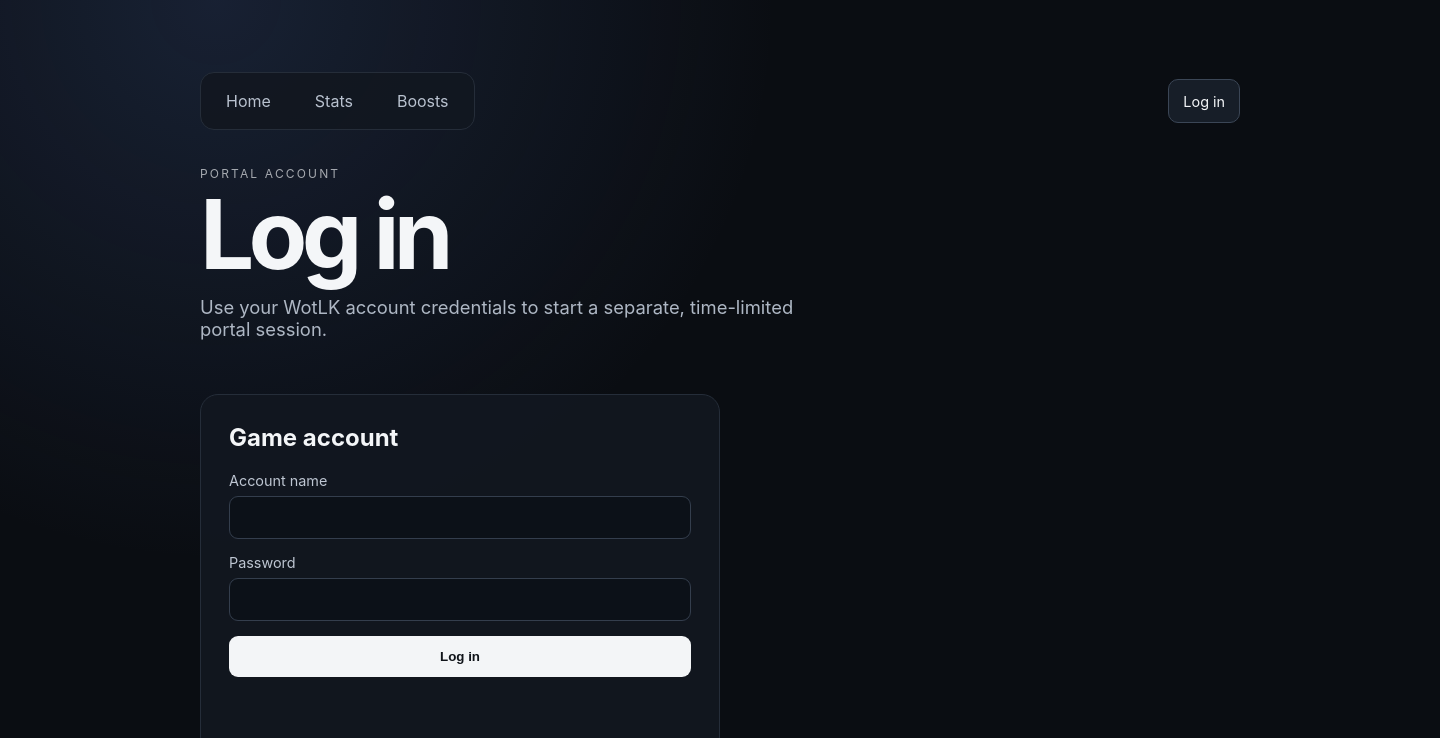
Test case: portal authentication experience › returns to the protected route after login and shows the canonical account
Type "test_user" into the field labelled "Account name" at (460, 518), box 229,496 -> 691,539
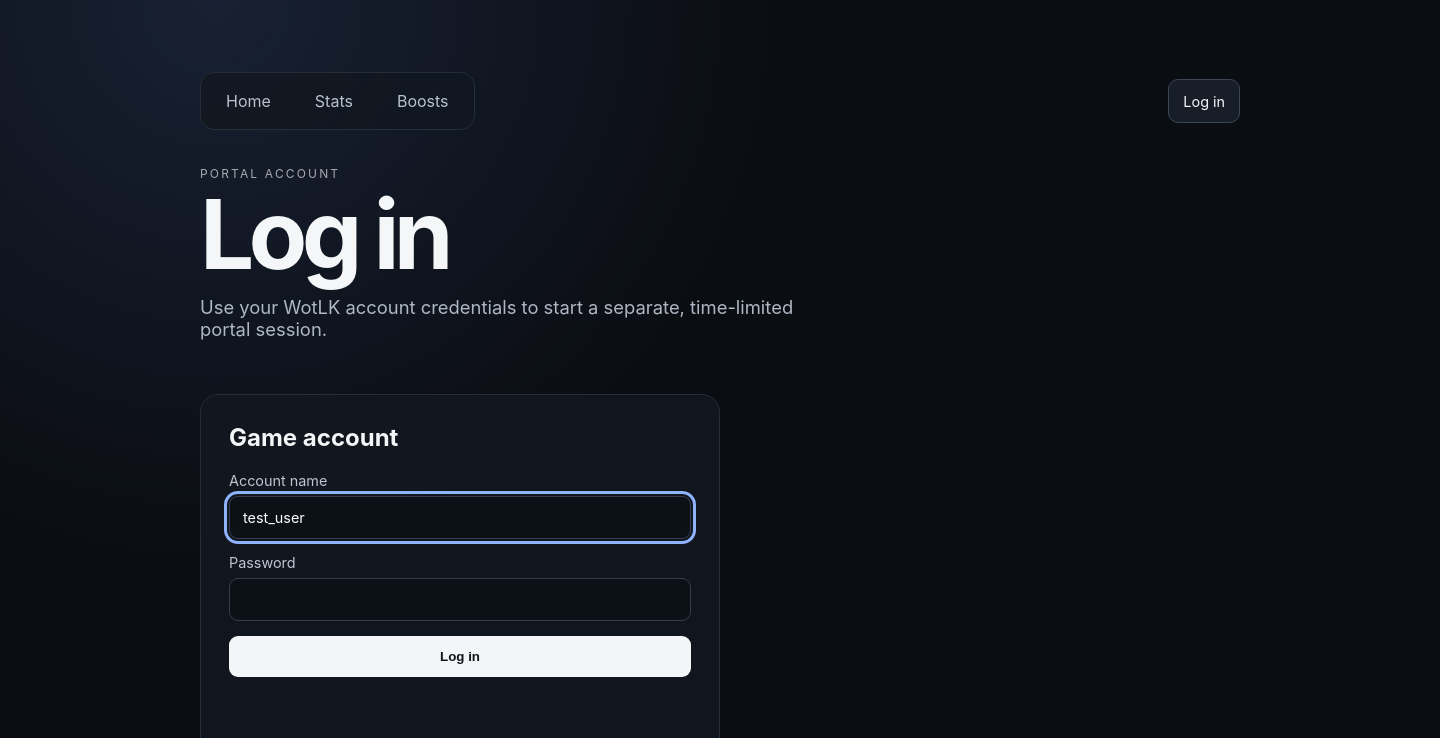
Type "fabricated-password" into the password field labelled "Password" at (460, 600), box 229,578 -> 691,621
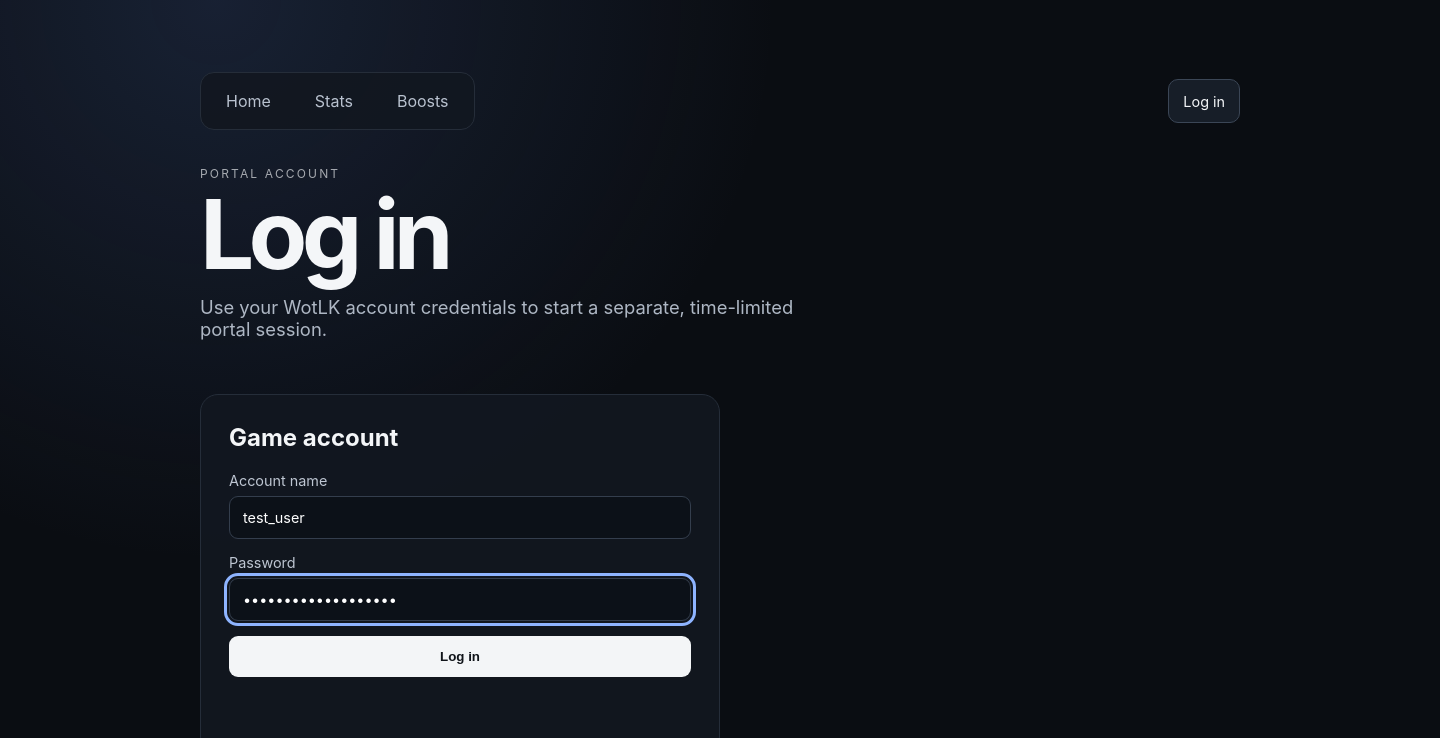
Click the button "Log in" at (460, 657), box 229,636 -> 691,677
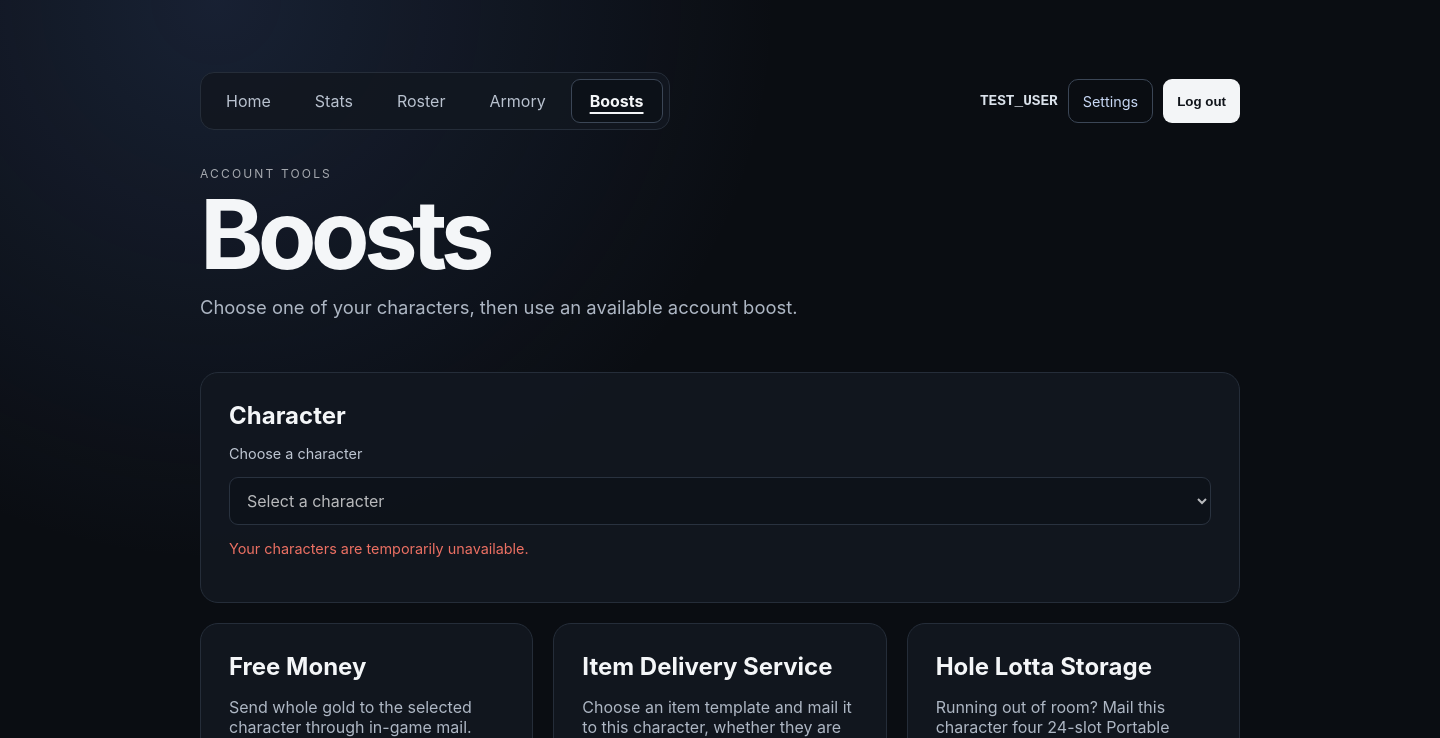
Check: the heading "Boosts" is shown, box 200,176 -> 489,292
Check: the text "TEST_USER" is shown, box 980,93 -> 1058,109
